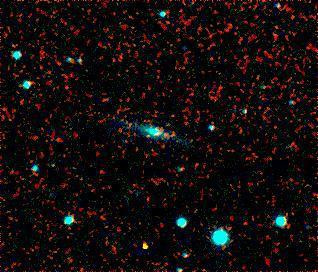star: (128, 227, 158, 257)
